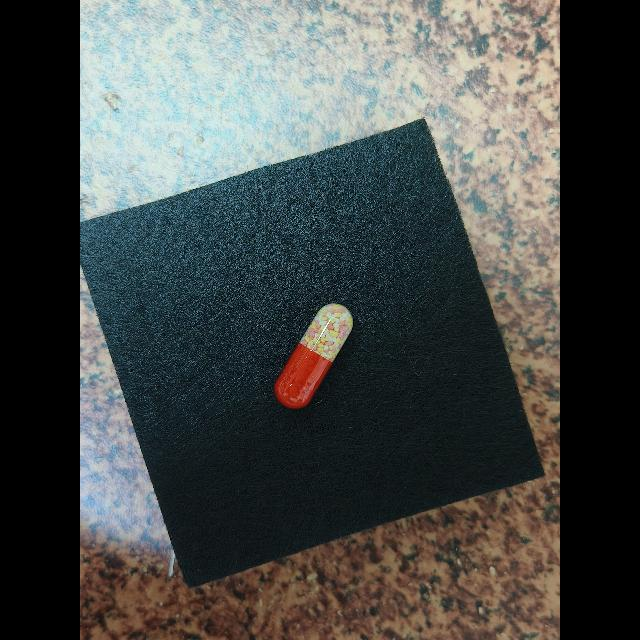Intact Capsule: (275, 304, 354, 409)
